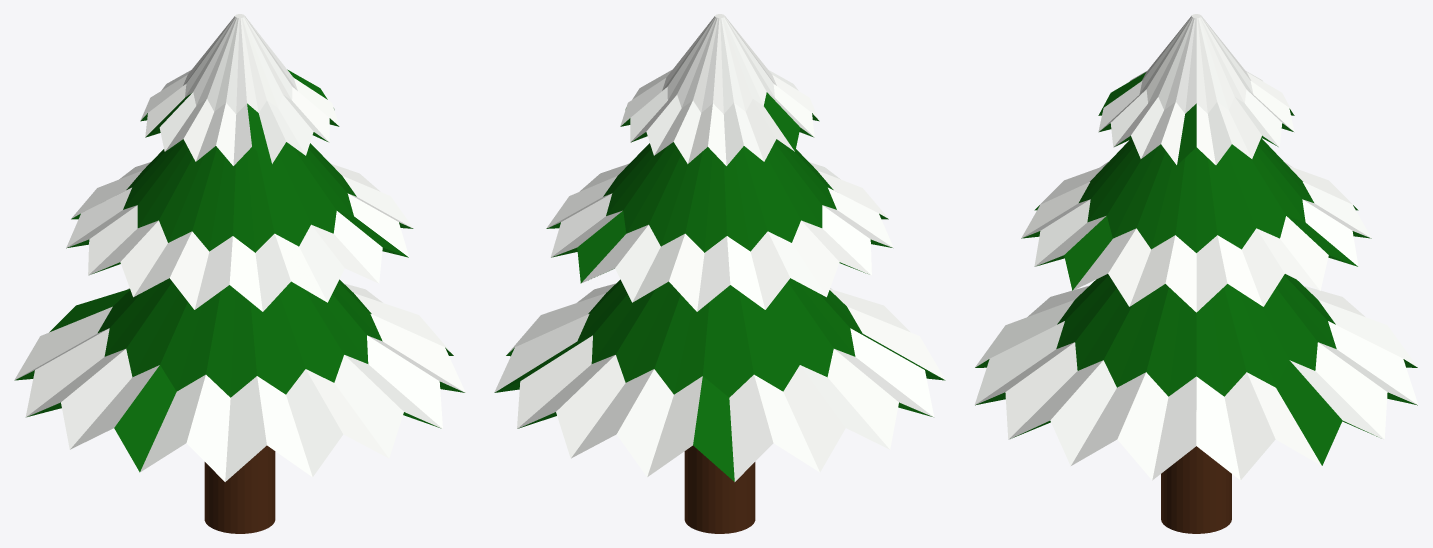
Rendered from SapinMoinSimple.fbx.
3 views of the same model, side by side, from view 1: azimuth 30°, elevation 25°; view 2: azimuth 150°, elevation 25°; view 3: azimuth 270°, elevation 25° (orthographic).
Parts seen in each view (by area): view 1: Cylinder; view 2: Cylinder; view 3: Cylinder.
Part boxes in pixels (left/top/right/bottom): Cylinder: left=14, top=14, right=465, bottom=533; Cylinder: left=494, top=14, right=945, bottom=533; Cylinder: left=974, top=14, right=1418, bottom=533.
Bounding box in the file's own units: 479 × 598 × 479.
